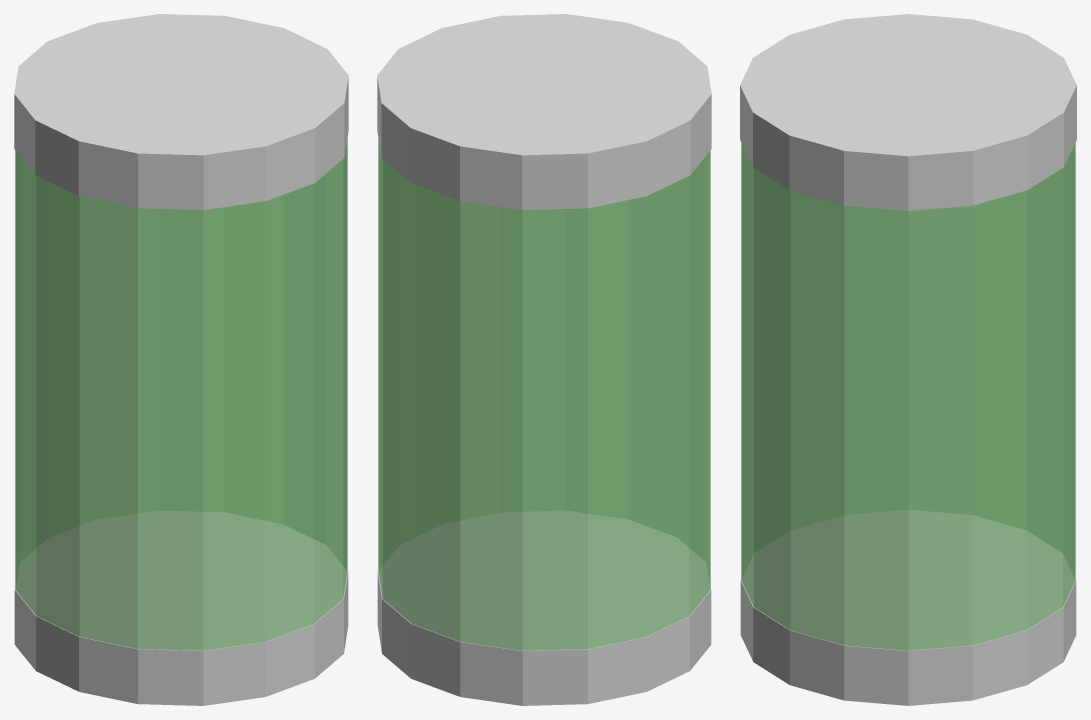
3 views of the same model, side by side, from view 1: azimuth 30°, elevation 25°; view 2: azimuth 150°, elevation 25°; view 3: azimuth 270°, elevation 25° (orthographic).
Parts seen in each view (by area): view 1: Glass, GlassTop, GlassBottom; view 2: Glass, GlassTop, GlassBottom; view 3: Glass, GlassTop, GlassBottom.
Boxes of the visible parts, box(x1,y1,x2,y2) form: Glass: box(15, 138, 347, 650); GlassTop: box(14, 14, 348, 210); GlassBottom: box(14, 511, 348, 705); Glass: box(378, 138, 710, 650); GlassTop: box(377, 14, 711, 210); GlassBottom: box(377, 511, 711, 705); Glass: box(741, 143, 1075, 650); GlassTop: box(740, 14, 1076, 210); GlassBottom: box(740, 510, 1076, 705).
Size of what is drawn, in the model's own units: 2.01 by 3.63 by 2.01.
